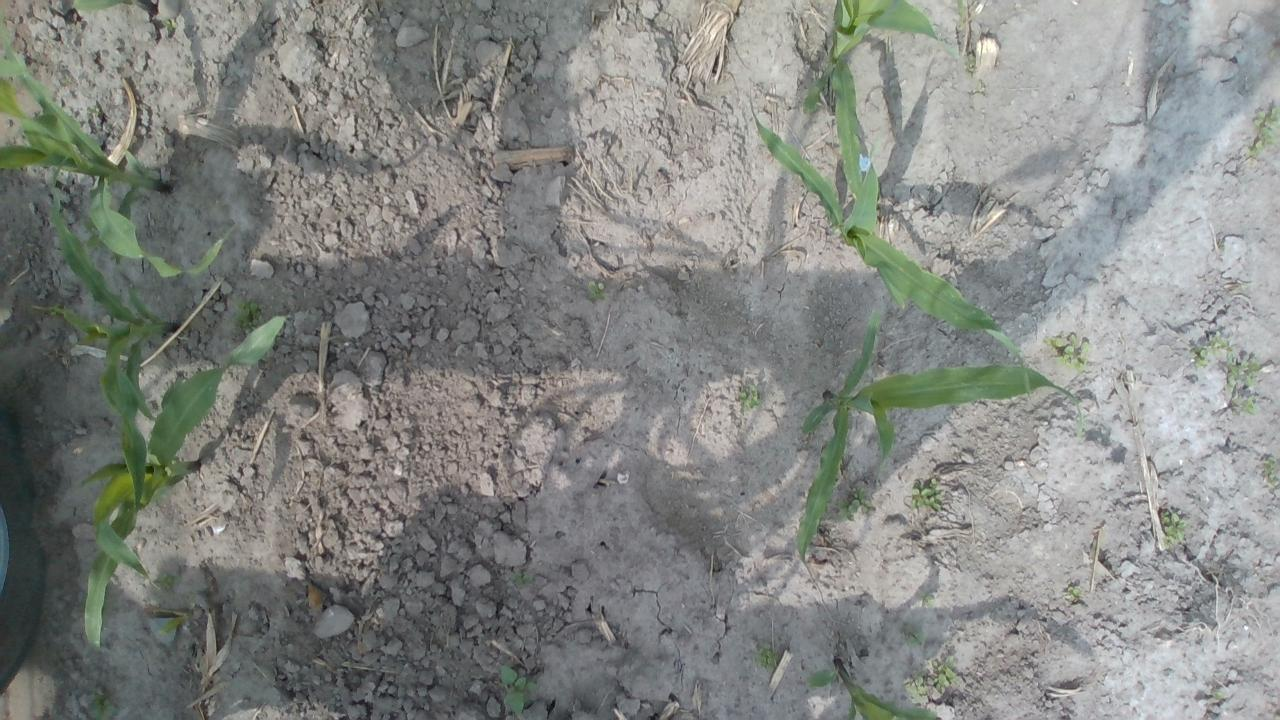Maize: (746, 90, 1035, 410), (794, 312, 1084, 556), (80, 318, 290, 650), (0, 10, 245, 278), (38, 162, 182, 526), (802, 0, 966, 197), (804, 651, 936, 720), (70, 0, 159, 20)
Weeds: (1226, 352, 1264, 416), (498, 663, 538, 720), (1043, 330, 1089, 376), (835, 484, 879, 523), (1248, 106, 1280, 159), (230, 297, 267, 337), (909, 478, 946, 516), (86, 685, 119, 720), (1158, 509, 1188, 546), (901, 669, 930, 706), (931, 655, 959, 692), (752, 647, 781, 675), (736, 382, 763, 411), (902, 623, 928, 648), (583, 278, 606, 300), (1262, 456, 1279, 485), (1190, 345, 1210, 369), (154, 573, 178, 592), (1210, 335, 1232, 355), (958, 53, 976, 76), (81, 233, 105, 250), (510, 570, 531, 588), (919, 591, 937, 610), (81, 216, 98, 234), (160, 16, 177, 33), (49, 303, 64, 320), (1066, 585, 1082, 599), (85, 104, 100, 117), (1213, 690, 1226, 701)
